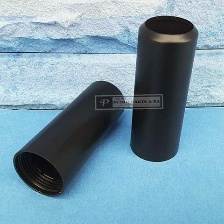bottle: (8, 77, 128, 201), (131, 13, 198, 164)
